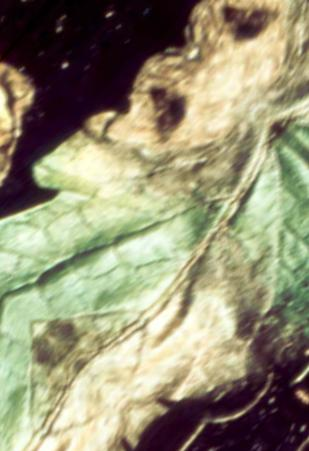Tomato leaf late blight: (0, 14, 309, 451)
